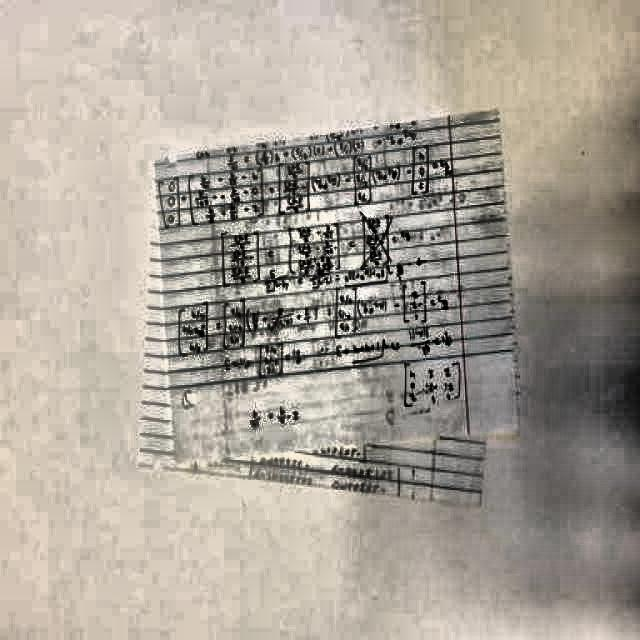Paper: (136, 109, 519, 504)
